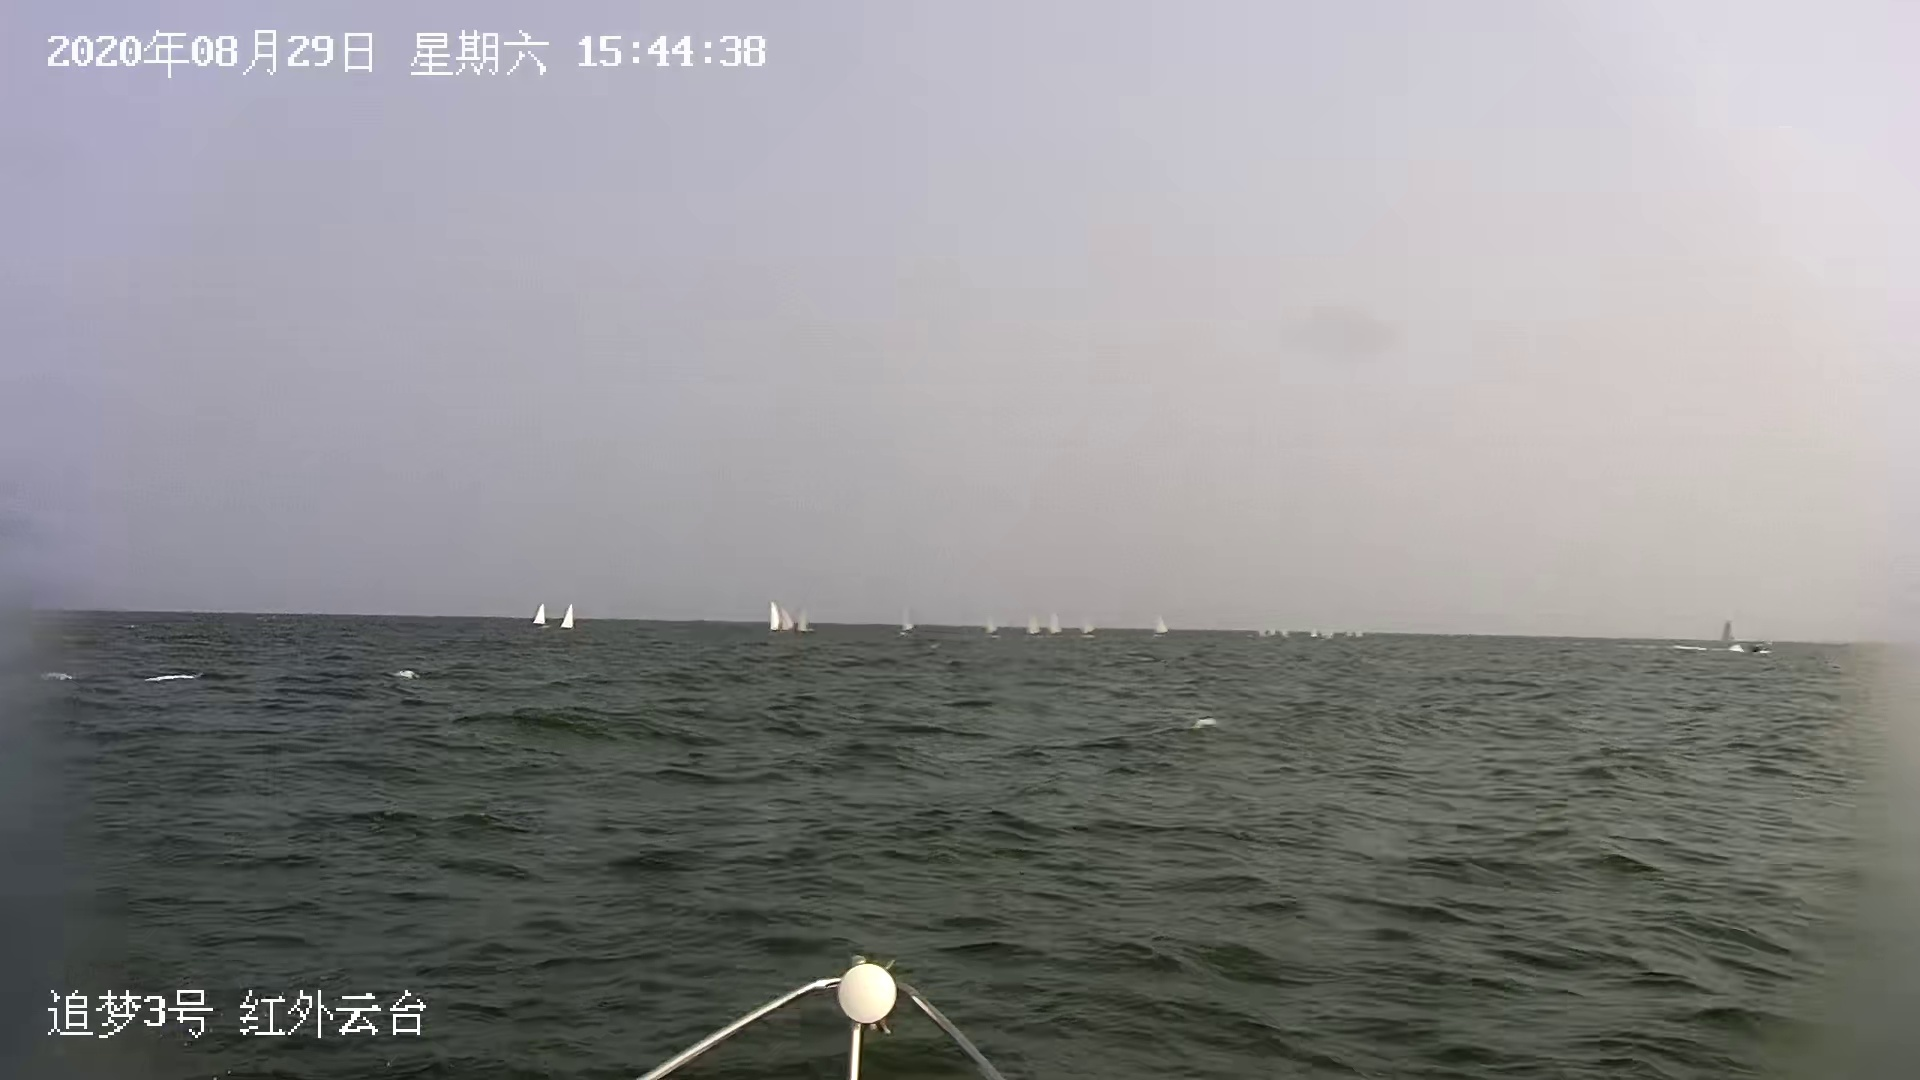barrier: (1673, 611, 1771, 655), (1077, 612, 1097, 642), (1153, 615, 1172, 640), (560, 604, 578, 632), (1026, 612, 1043, 638), (1048, 612, 1065, 638), (799, 603, 814, 632), (783, 604, 796, 633), (531, 603, 547, 626), (902, 609, 916, 634), (986, 613, 1000, 636), (771, 603, 781, 632), (1320, 626, 1335, 640), (1309, 626, 1320, 640), (1342, 629, 1353, 640), (1280, 630, 1288, 640), (1356, 629, 1364, 638), (1270, 629, 1276, 638), (1261, 629, 1267, 637)
